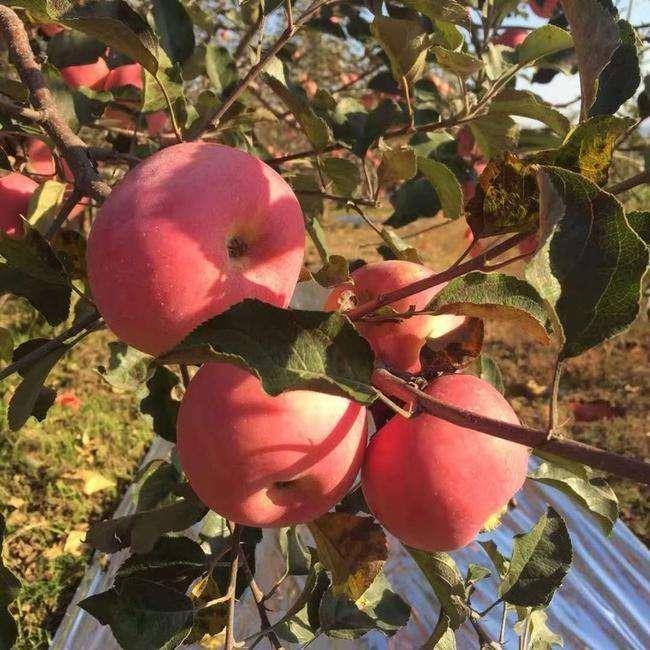apple: (82, 138, 310, 368), (181, 371, 372, 533), (361, 371, 528, 554)
